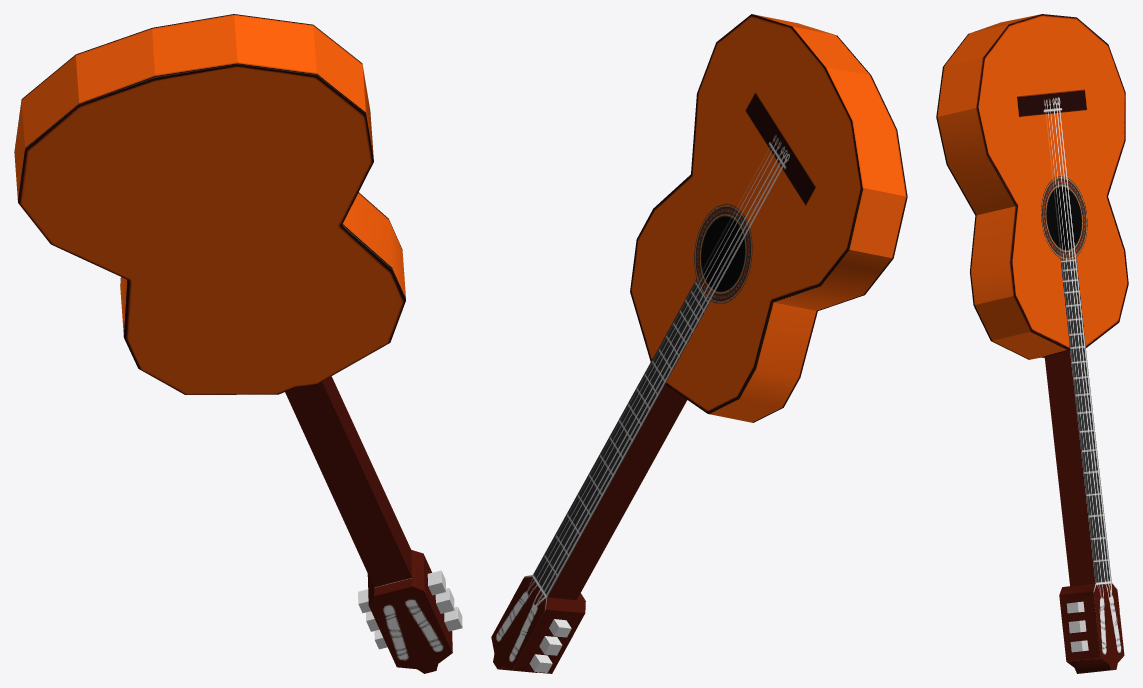
Rendered from guitarra2_000192.obj.
The picture shows the model from 3 angles, left to right: view 1: azimuth 30°, elevation 25°; view 2: azimuth 150°, elevation 25°; view 3: azimuth 270°, elevation 25°; orthographic projection. The views are drawn at different scales.
Visible parts, largest first — view 1: g2_pPlane4.001; view 2: g2_pPlane4.001; view 3: g2_pPlane4.001.
Boxes of the visible parts, x1=… form: g2_pPlane4.001: x1=14, y1=14, x2=462, y2=673; g2_pPlane4.001: x1=491, y1=14, x2=907, y2=673; g2_pPlane4.001: x1=936, y1=14, x2=1128, y2=673.
Bounding box in the file's own units: 7.23 × 11.61 × 3.61.
